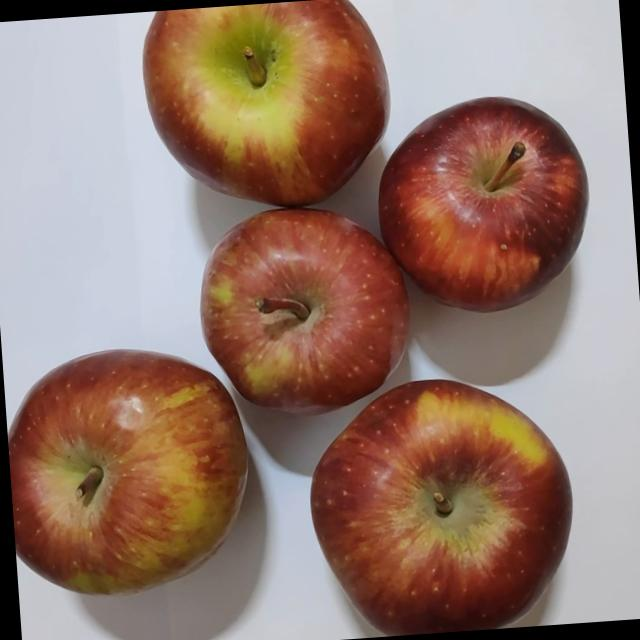apple: (295, 370, 579, 640), (2, 338, 268, 612), (135, 0, 407, 233), (364, 94, 600, 338), (184, 200, 426, 437)
